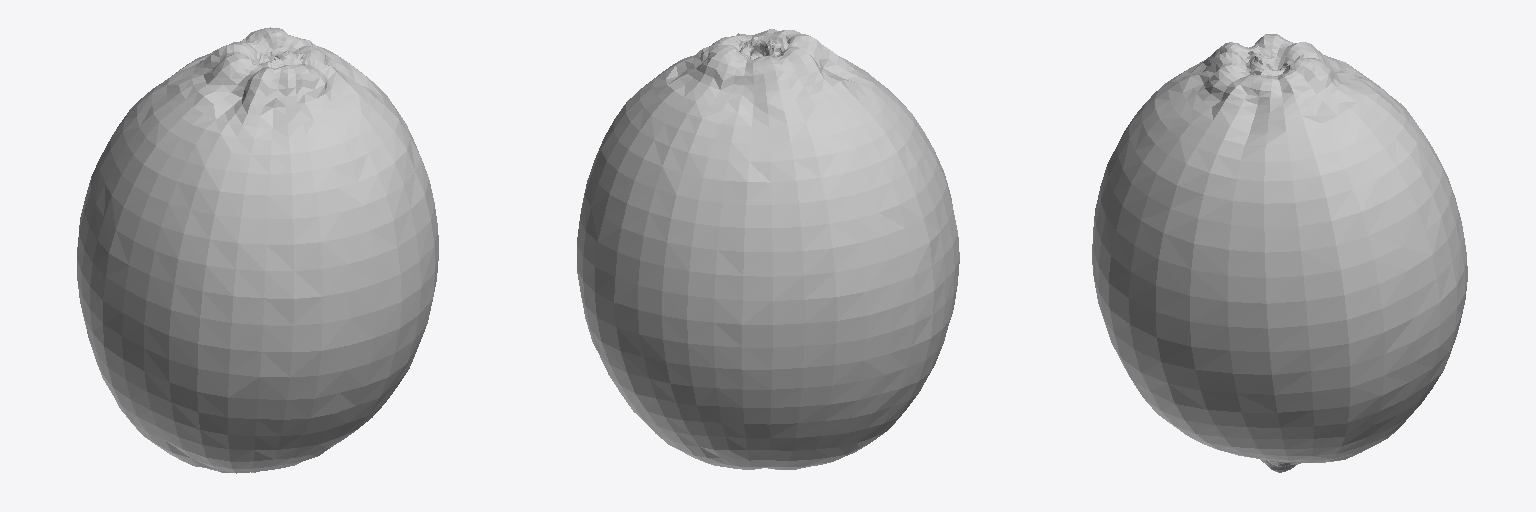
File: lime.obj
3 views of the same model, side by side, from view 1: azimuth 30°, elevation 25°; view 2: azimuth 150°, elevation 25°; view 3: azimuth 270°, elevation 25° (orthographic).
Visible parts, largest first — view 1: Lime; view 2: Lime; view 3: Lime.
Part boxes in pixels (x1,y1,x2,y2): Lime: (77, 27, 438, 473); Lime: (577, 29, 959, 469); Lime: (1092, 34, 1467, 472).
Size of the model in its own units: 5.99 by 7.52 by 6.1.